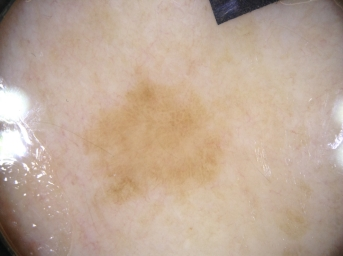seborrheic keratosis: (68, 70, 237, 213)
